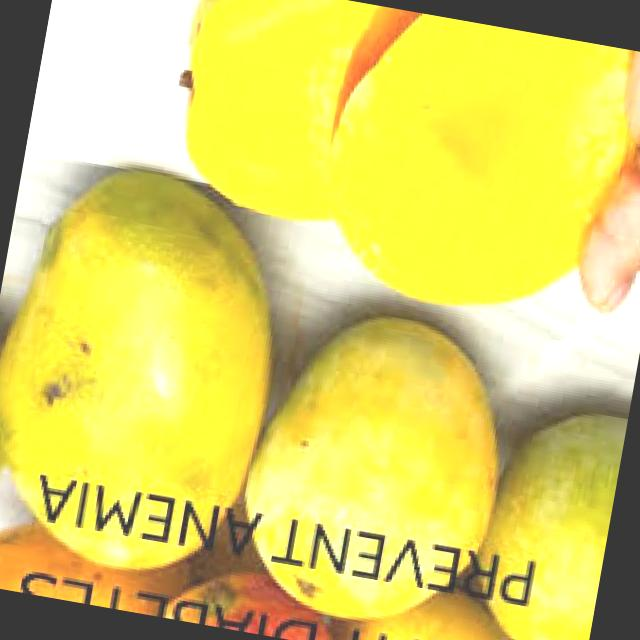Mango: (0, 153, 305, 592), (261, 0, 640, 336), (226, 297, 526, 640), (165, 0, 391, 230), (462, 399, 627, 640), (0, 509, 228, 626), (160, 553, 353, 640), (330, 564, 534, 640)
